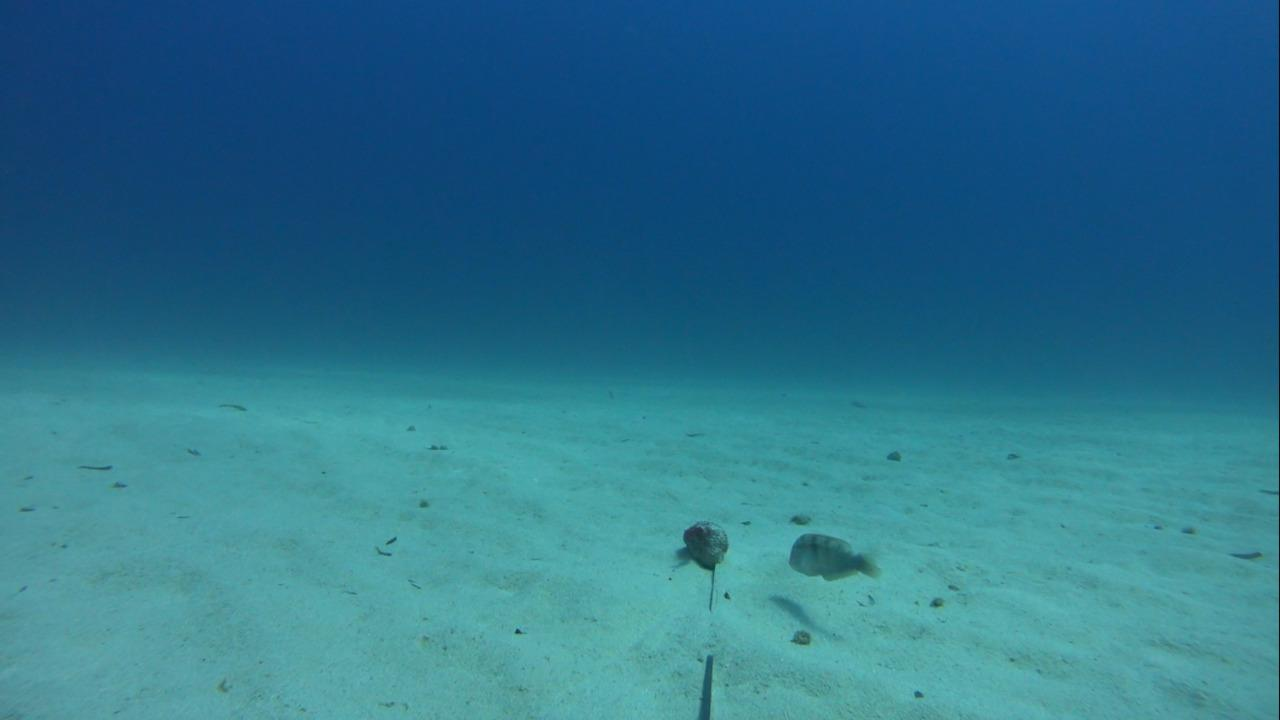raor: (785, 527, 882, 585)
